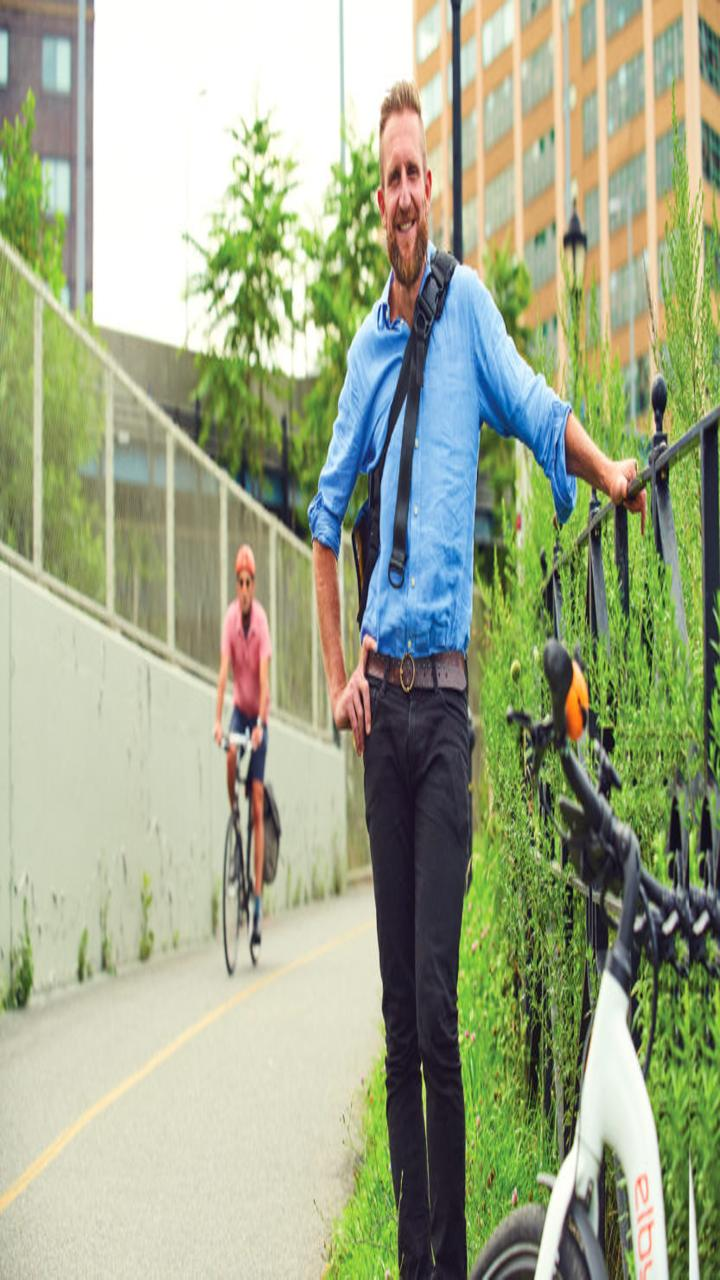bicycle: (196, 719, 288, 976)
cyclist: (204, 532, 274, 908)
pedestrian: (306, 81, 648, 1276)
